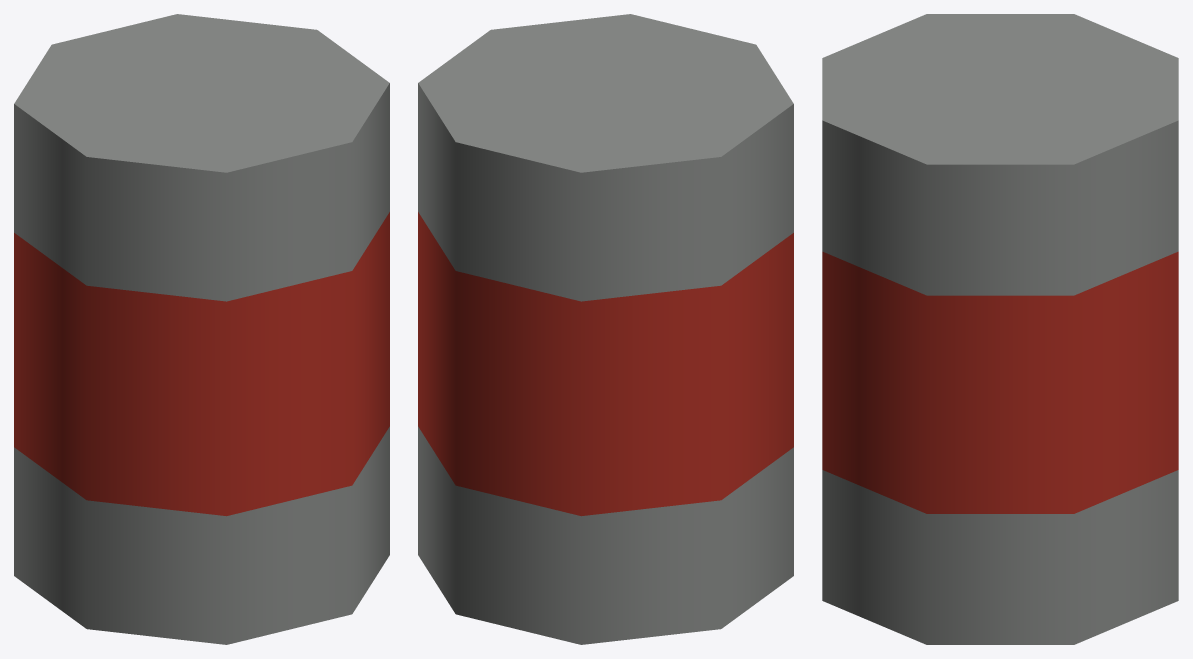
Rendered from tin_can.glb.
3 views of the same model, side by side, from view 1: azimuth 30°, elevation 25°; view 2: azimuth 150°, elevation 25°; view 3: azimuth 270°, elevation 25° (orthographic).
Visible parts, largest first — view 1: Body; view 2: Body; view 3: Body.
Part boxes in pixels (bbox=[...]): Body: bbox=[14, 14, 389, 644]; Body: bbox=[418, 14, 793, 644]; Body: bbox=[822, 14, 1178, 644].
Size of the model in its own units: 0.0739 by 0.11 by 0.0739.
